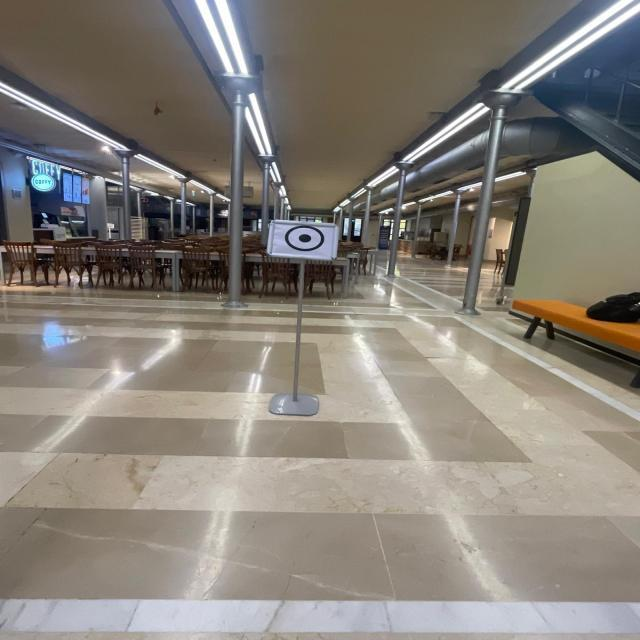Target: (253, 203, 355, 274)
inner: (294, 229, 316, 248)
